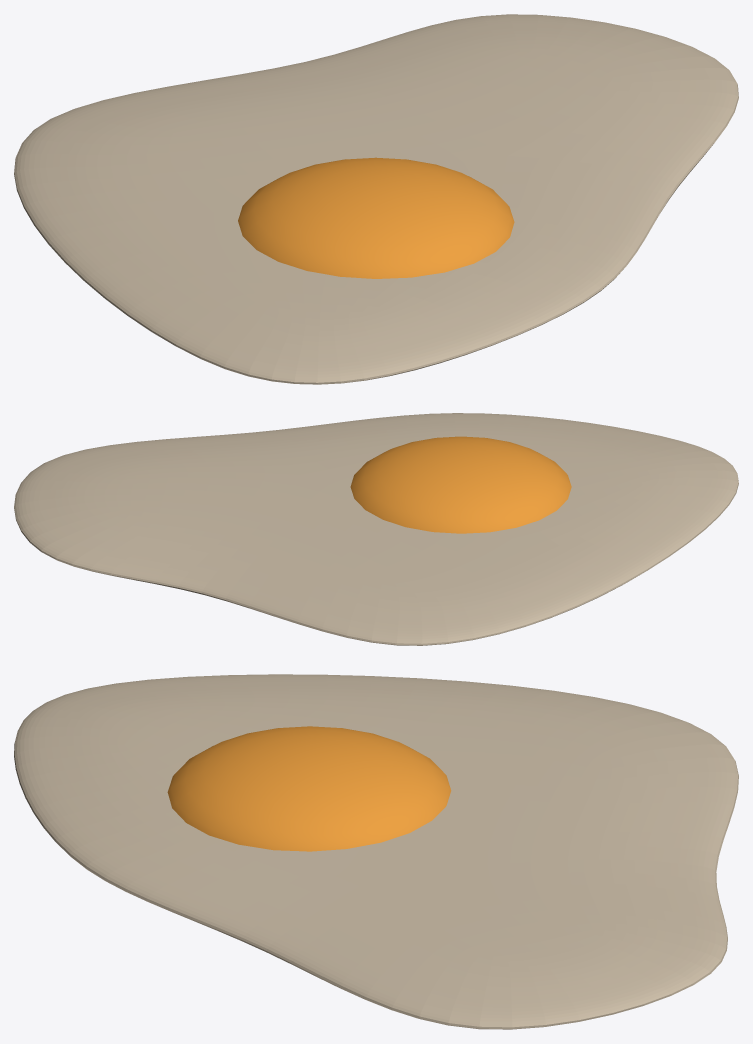
Rendered from Egg.fbx.
3 renders of one model, top to bottom at view 1: azimuth 30°, elevation 25°; view 2: azimuth 150°, elevation 25°; view 3: azimuth 270°, elevation 25°, orthographic. The views are drawn at different scales.
Visible parts, largest first — view 1: Egg, Sphere.001; view 2: Egg, Sphere.001; view 3: Egg, Sphere.001.
Part boxes in pixels (left/top/right/bottom): Egg: left=14, top=14, right=738, bottom=384; Sphere.001: left=238, top=157, right=514, bottom=278; Egg: left=14, top=413, right=738, bottom=645; Sphere.001: left=350, top=436, right=571, bottom=533; Egg: left=14, top=674, right=738, bottom=1029; Sphere.001: left=167, top=726, right=451, bottom=851.
Size of the model in its own units: 712 by 60.88 by 618.
